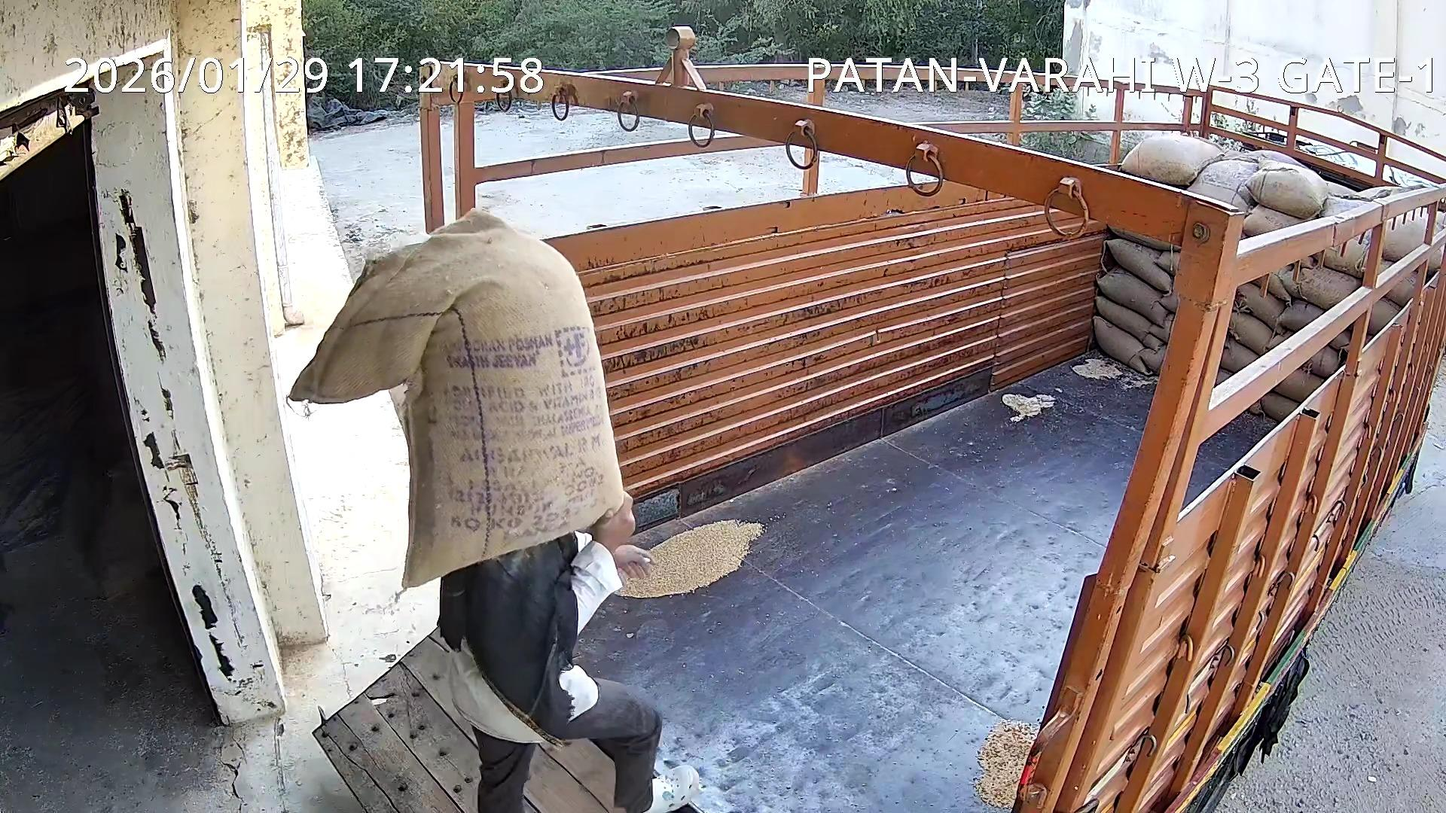Sack: (290, 210, 624, 586)
